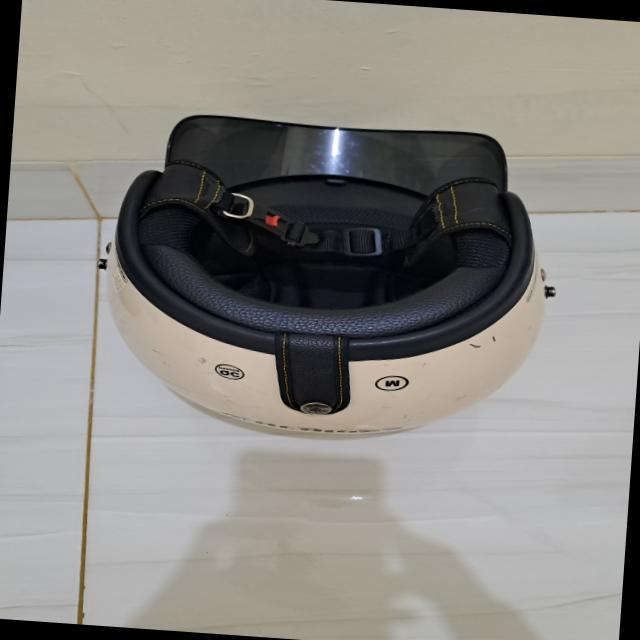Helm: (81, 89, 574, 467)
